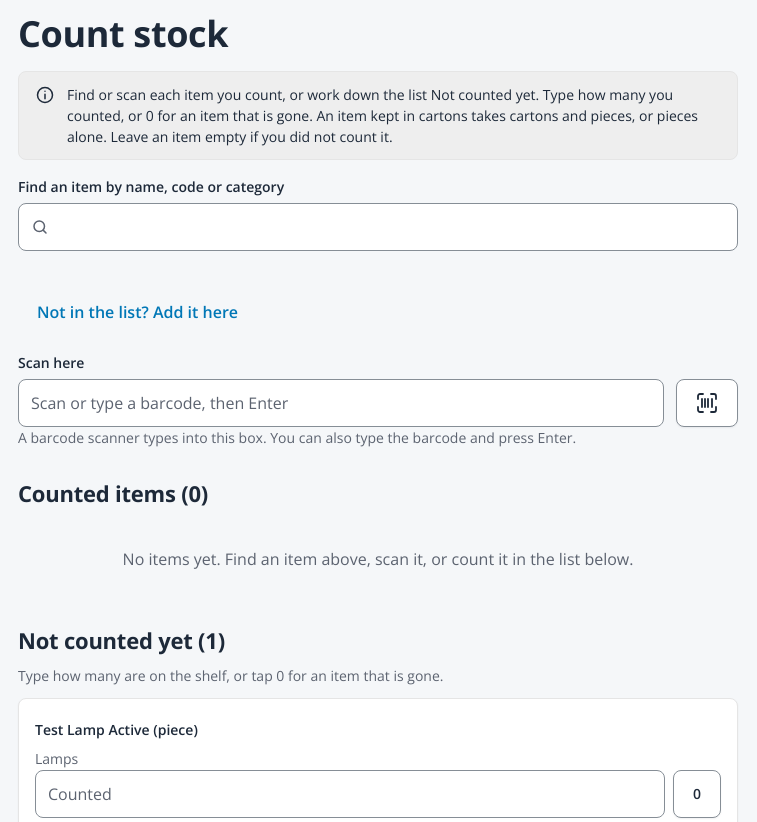
Scenario: counting the sheet › says so when no item matches
Expected: the text "No items yet. Find an item above, scan it, or count it in the list below." is shown, [123,548,633,570]
Type "fridge" into the dropdown labelled "Find an item by name, code or category" at [378, 227], box [18,203,738,251]
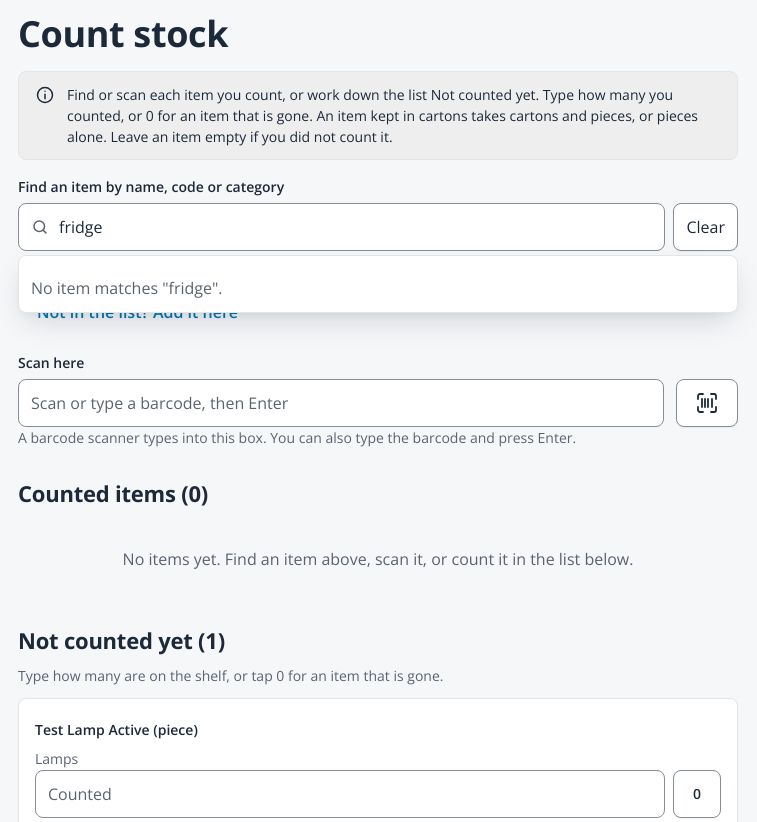
Result: the text "No item matches \"fridge\"." is shown at [31,277,222,299]
